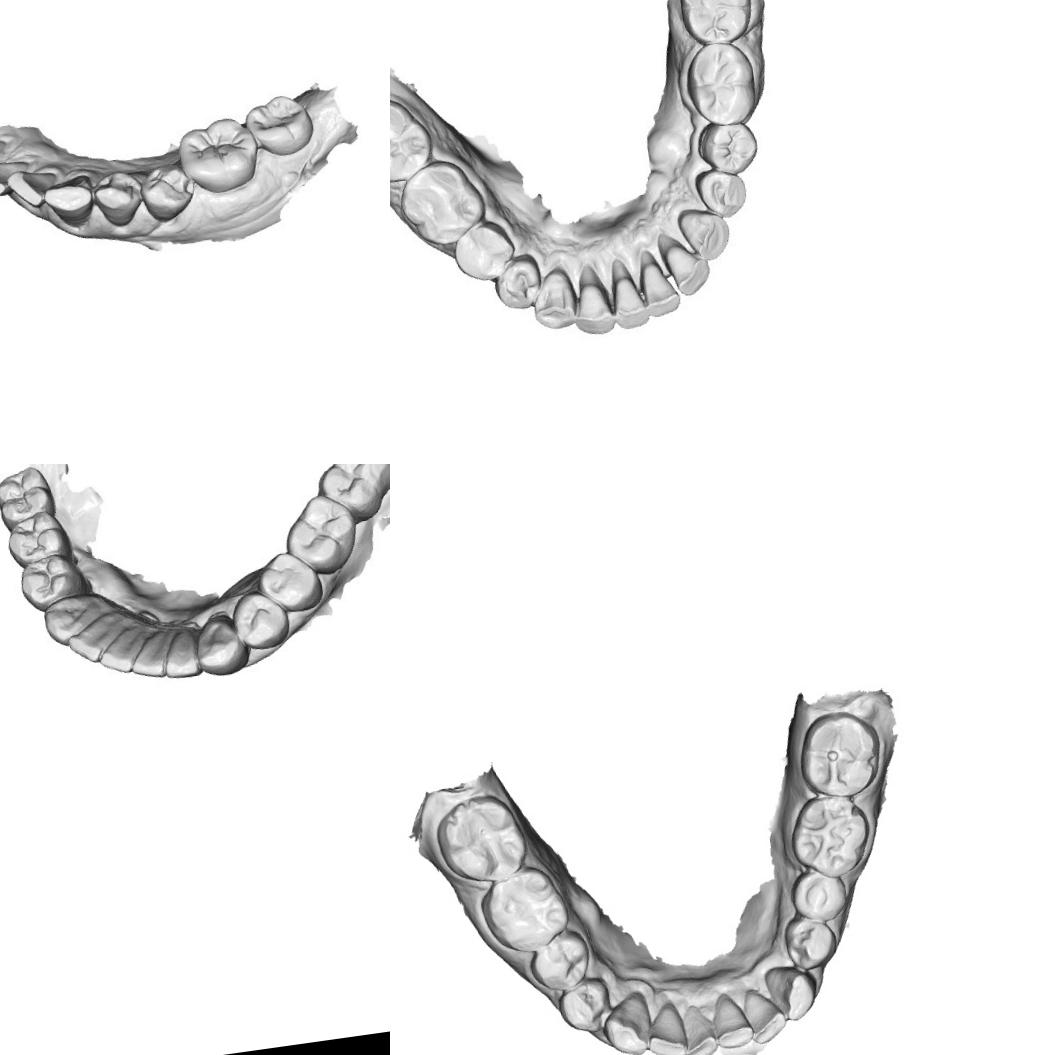canine: (38, 588, 116, 648), (760, 960, 821, 1026), (675, 203, 737, 266), (192, 611, 247, 679), (600, 987, 654, 1055), (38, 174, 96, 237), (530, 270, 578, 334)
incisor: (124, 608, 178, 682), (566, 265, 618, 339), (66, 612, 133, 668), (96, 615, 152, 677), (658, 240, 715, 298), (633, 256, 683, 322), (740, 983, 790, 1048), (708, 988, 754, 1053), (610, 262, 651, 333), (159, 620, 206, 680), (640, 1000, 689, 1055), (676, 997, 722, 1055), (8, 162, 60, 210), (0, 153, 36, 195)
molar: (431, 789, 532, 890), (476, 861, 576, 959), (392, 154, 489, 252), (792, 704, 888, 802), (783, 790, 875, 884), (682, 36, 764, 132), (279, 492, 362, 578), (180, 109, 262, 191), (244, 87, 318, 159), (308, 464, 390, 528), (390, 91, 437, 191), (674, 0, 756, 50), (0, 464, 59, 532)
premolar: (250, 546, 325, 619), (526, 927, 594, 996), (15, 551, 89, 614), (450, 218, 518, 284), (693, 115, 762, 177), (4, 510, 76, 568), (229, 588, 291, 654), (136, 162, 196, 224), (690, 164, 754, 222), (490, 250, 547, 314), (779, 914, 839, 974), (557, 976, 614, 1039), (788, 868, 850, 924), (95, 168, 143, 227)
